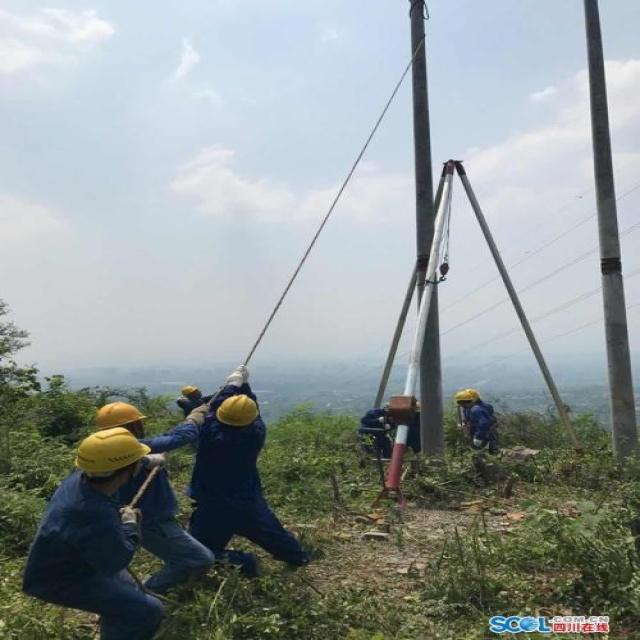helmet: (76, 573, 145, 640), (89, 524, 150, 581), (210, 524, 266, 581), (177, 507, 212, 541), (448, 516, 484, 548)
